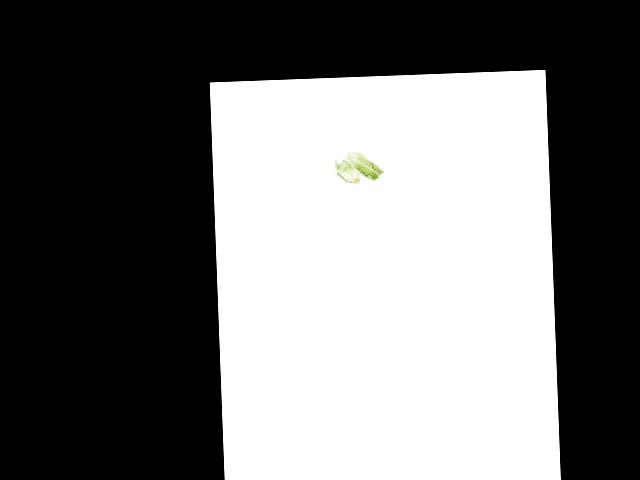lettuce: (332, 150, 382, 190)
